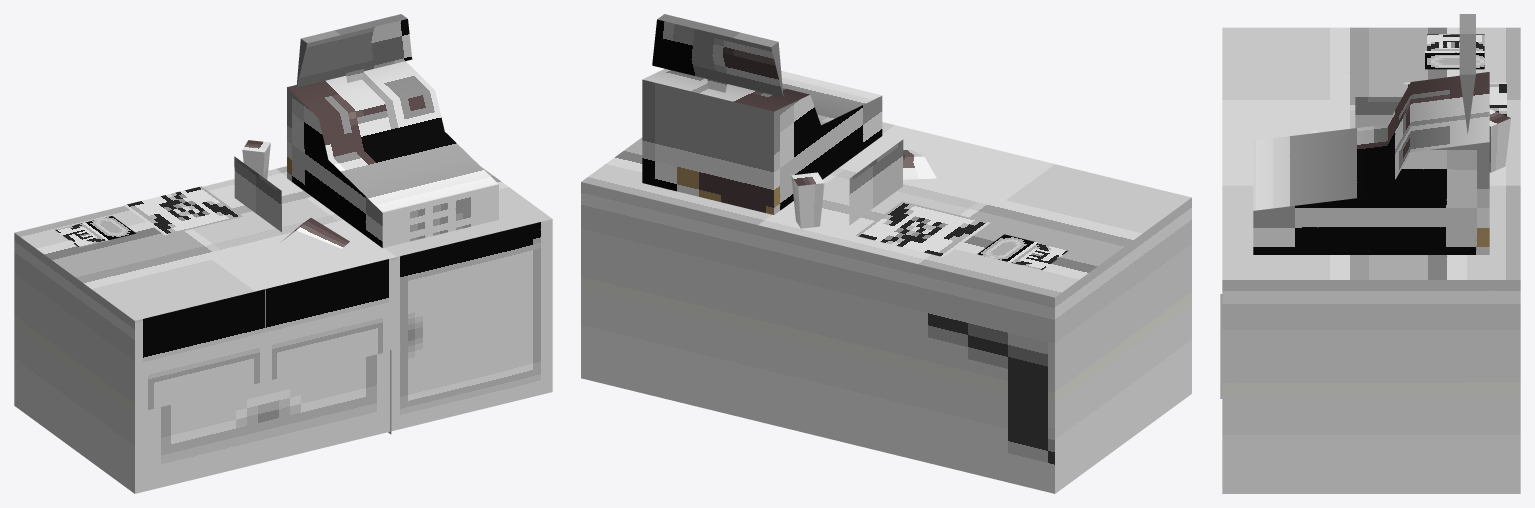
The picture shows the model from 3 angles, left to right: view 1: azimuth 30°, elevation 25°; view 2: azimuth 150°, elevation 25°; view 3: azimuth 270°, elevation 25°; orthographic projection. The views are drawn at different scales.
Visible parts, largest first — view 1: 3892kg3_shp14; view 2: 3892kg3_shp14; view 3: 3892kg3_shp14.
Part boxes in pixels (x1=…): 3892kg3_shp14: x1=14, y1=14, x2=552, y2=493; 3892kg3_shp14: x1=581, y1=14, x2=1191, y2=493; 3892kg3_shp14: x1=1220, y1=14, x2=1520, y2=493.
Bounding box in the file's own units: 1.8 × 1.31 × 0.9065.
Materials: 3 (3 with a texture image).
